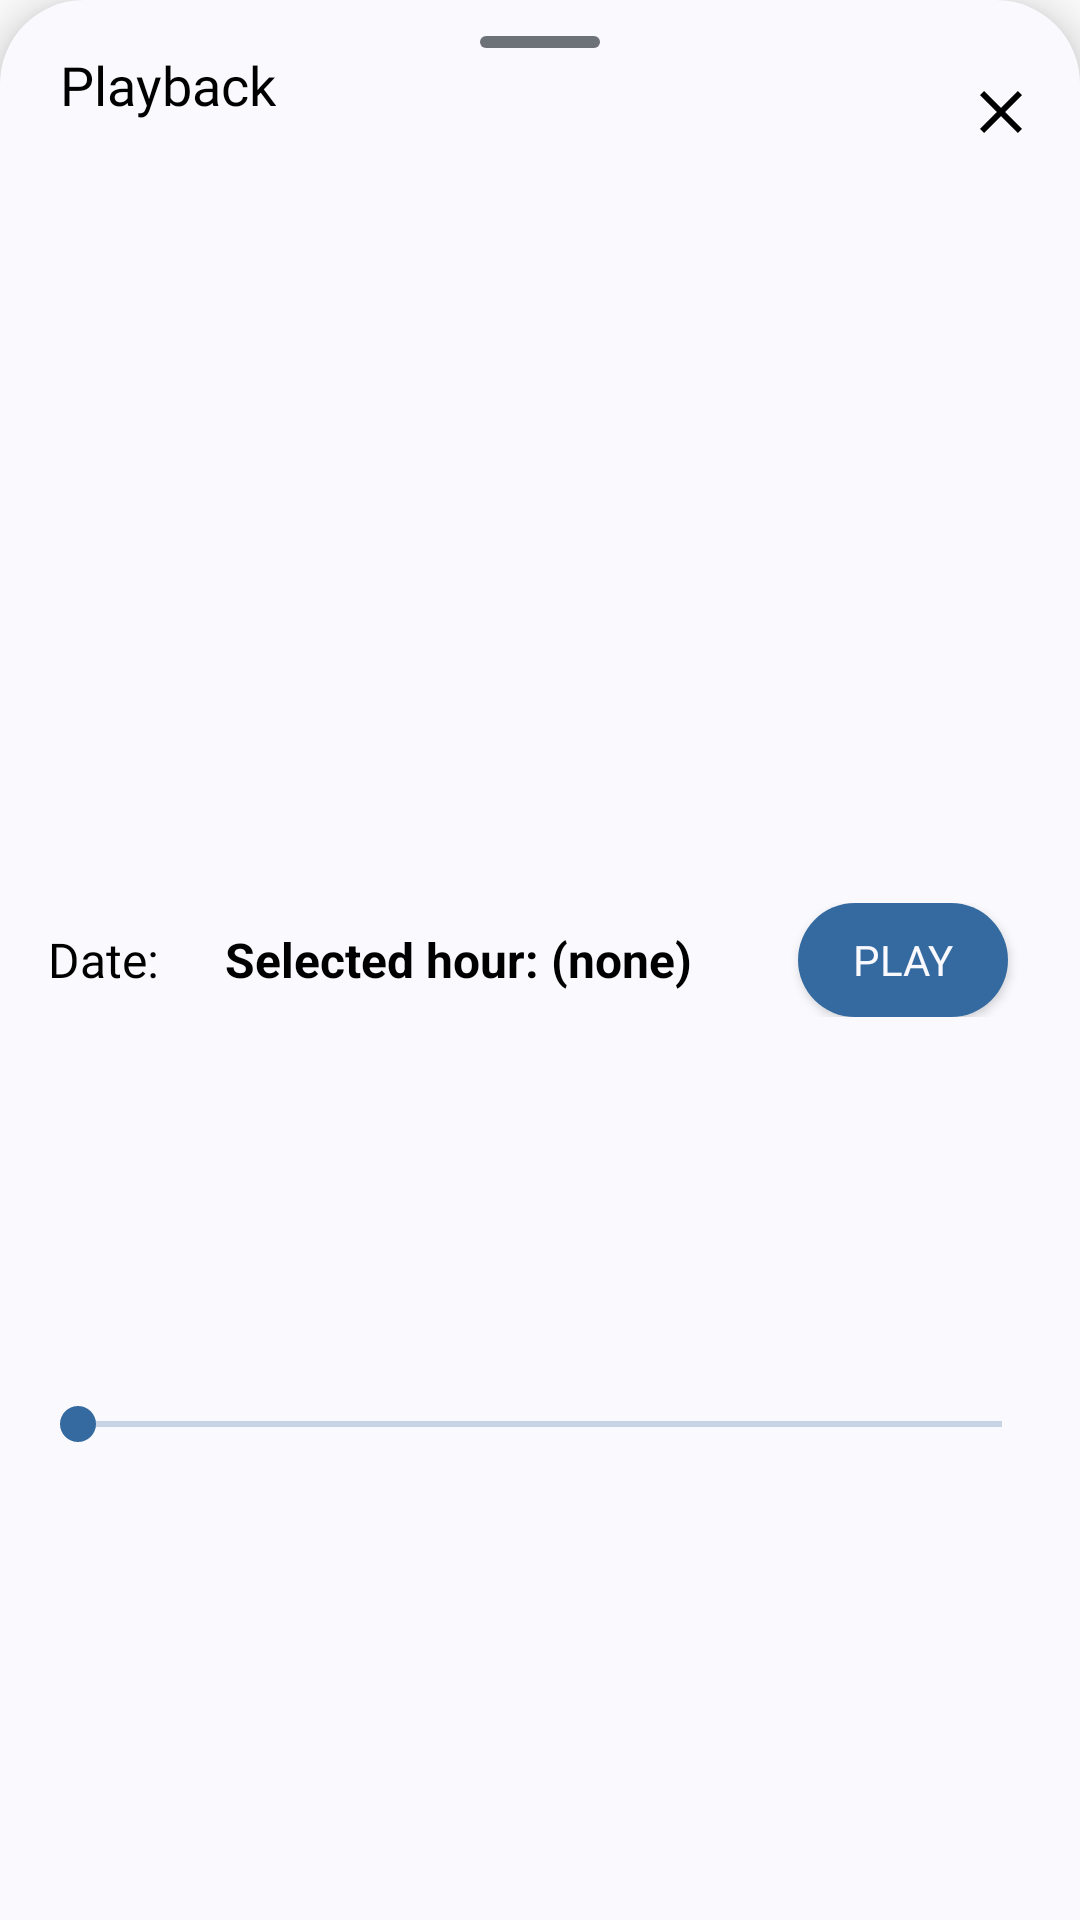

Point at icon controls on the screen. Image size 1080 × 1920, points as (x=x, y=y).
Close: (x=1001, y=112)
